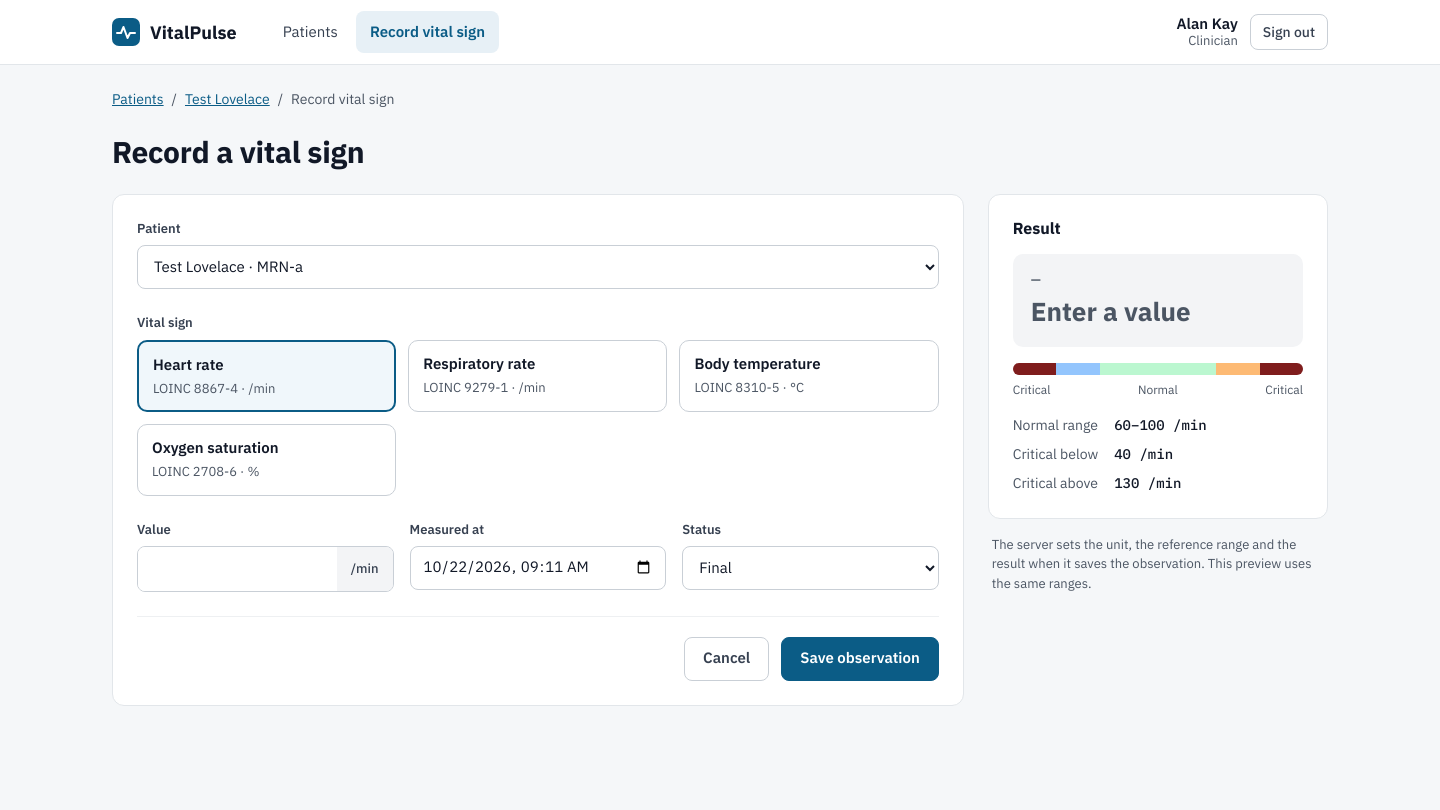
Test case: Record observation page › shows the server's errors next to the field they are about
The image size is (1440, 810).
Step 1. Type "80" into the number field labelled "Value /min" → x=237, y=568, box [138,546,337,590]
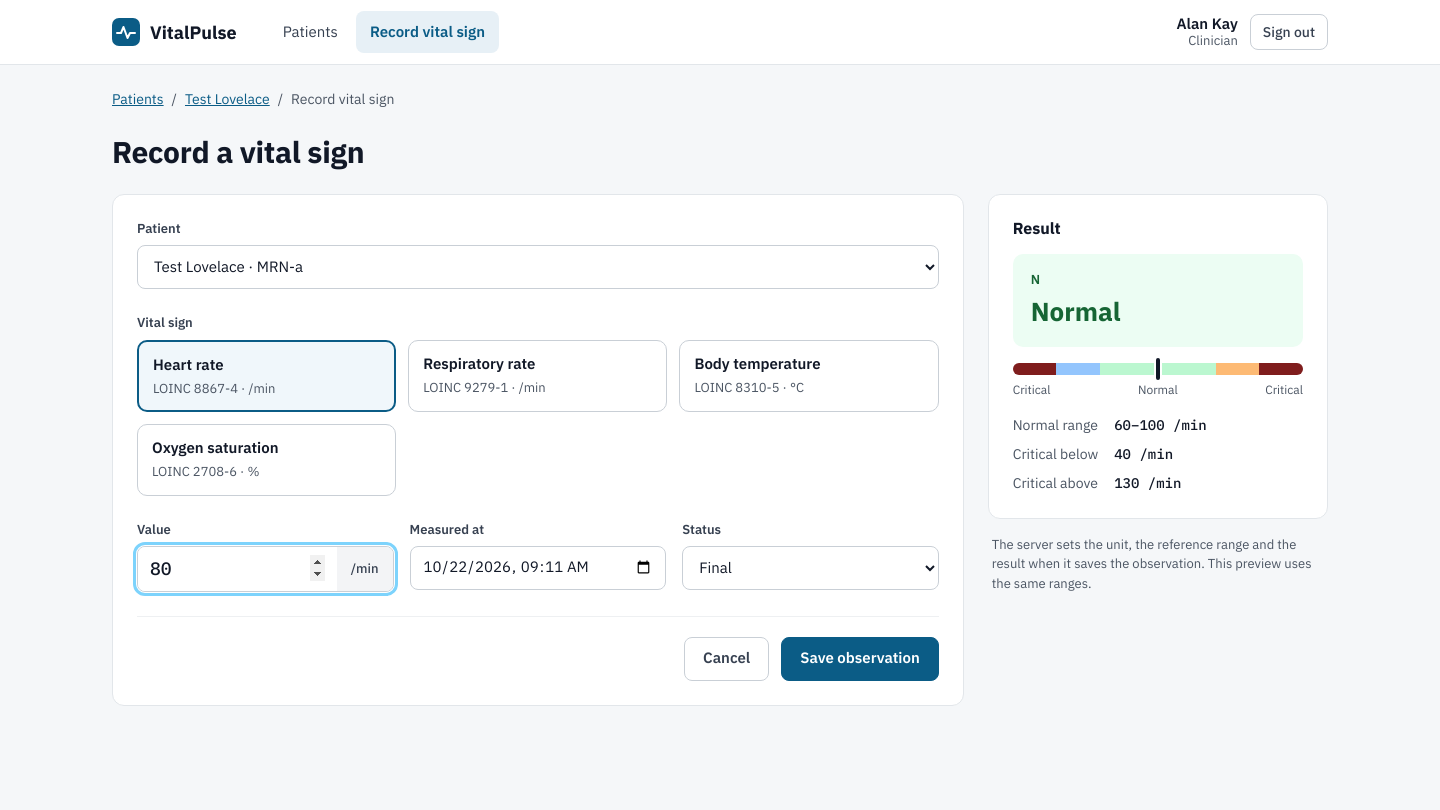
Step 2. Click the button "Save observation" → x=860, y=658, box [781,636,939,680]
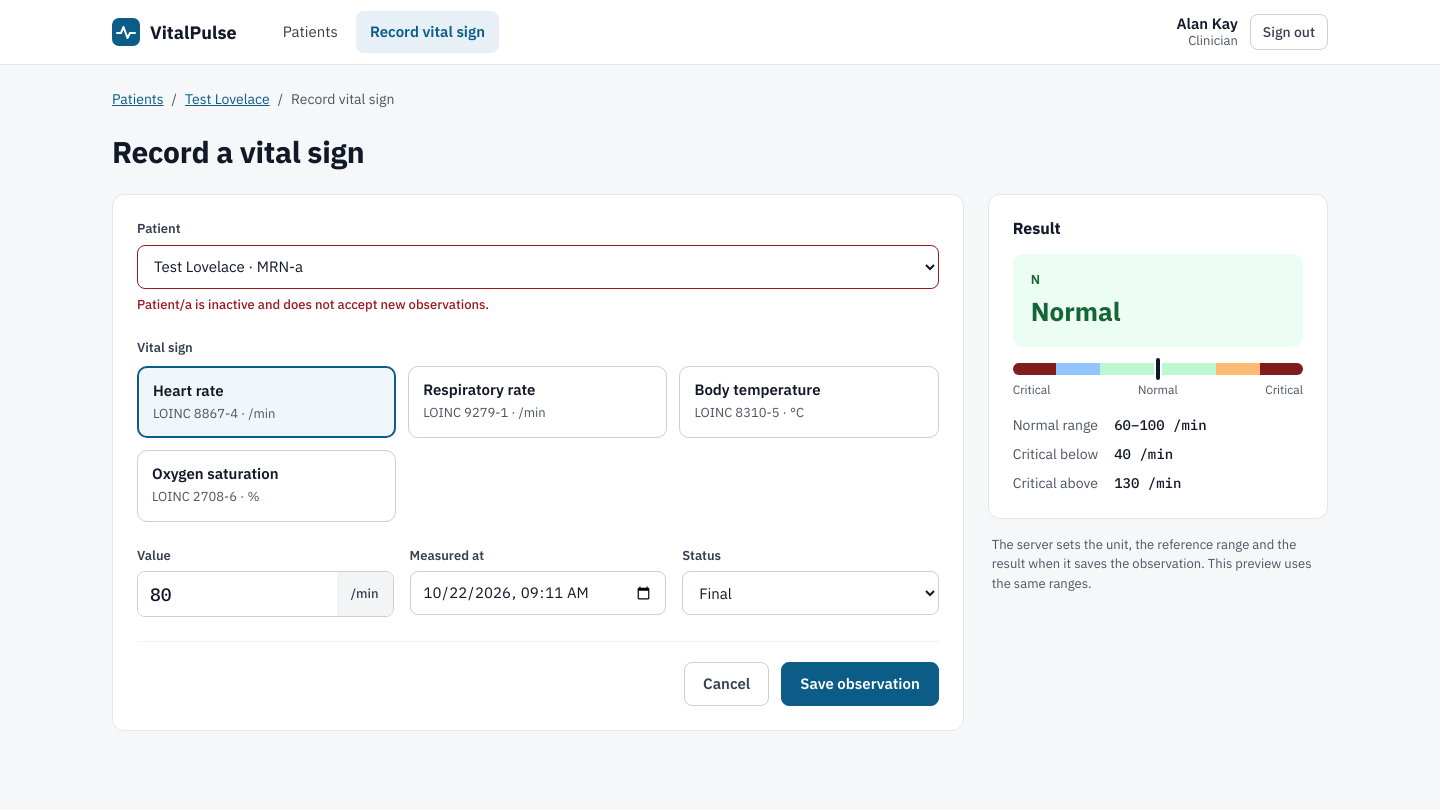
Result: the text "Patient/a is inactive and does not accept new observations." is shown at [137,296,489,312]
